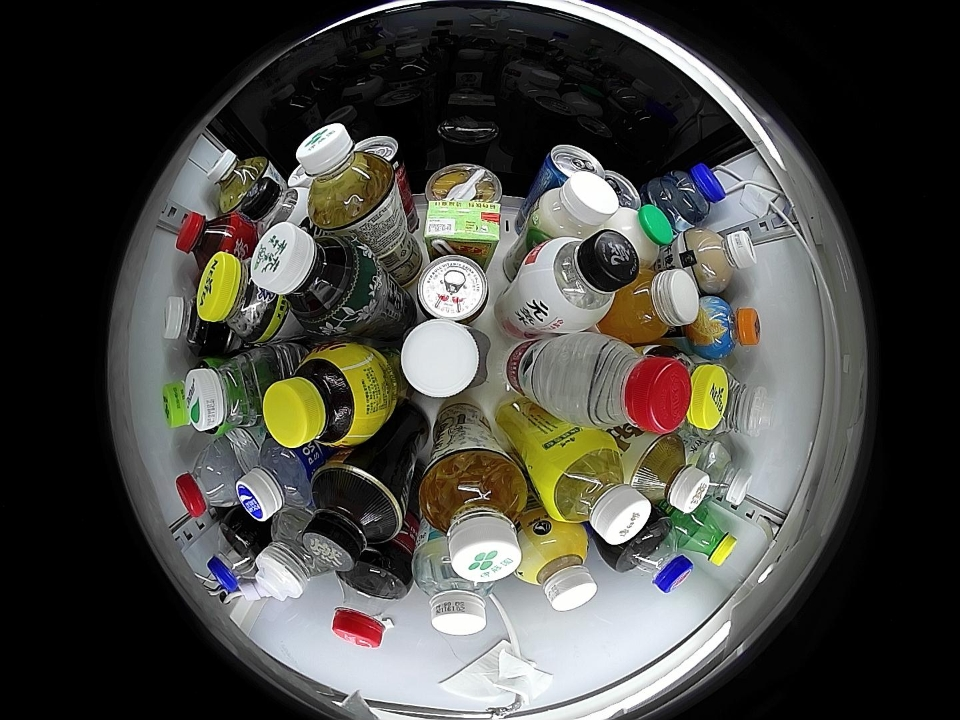asamu: (516, 527, 597, 612)
baicha: (418, 451, 528, 583), (295, 122, 398, 228), (207, 149, 268, 211)
baishikele-2: (614, 519, 693, 594), (207, 518, 266, 594)
baokuangli: (235, 440, 319, 521)
binghongcha: (175, 211, 246, 273)
bingtangxueli: (539, 436, 652, 545)
chacui: (198, 252, 285, 343), (668, 354, 730, 430)
guolicheng: (690, 297, 761, 360)
hongniu2: (416, 255, 490, 323)
jianjiao: (254, 515, 329, 602), (708, 364, 773, 438)
kele-b: (331, 557, 409, 650)
liziyuan: (606, 203, 675, 270)
maidong: (657, 162, 727, 226)
moliqingcha: (251, 222, 375, 335)
nongfushanquan: (569, 338, 691, 434), (176, 441, 245, 517)
qingdaowangzi-2: (540, 145, 607, 187)
qinningshui: (414, 544, 494, 636), (694, 439, 753, 508)
rancha-1: (301, 461, 406, 571)
rancha-2: (628, 434, 710, 515)
wanglaoji: (423, 196, 502, 252)
weic: (607, 269, 700, 344)
weitaningmeng-bottle: (263, 342, 384, 450)
wuhounaicha: (687, 228, 757, 292)
wulongcha: (163, 290, 221, 354)
xianguolao: (422, 160, 501, 199)
xuebi-b: (676, 507, 738, 568)
yezhi: (606, 171, 641, 212)
yibao: (187, 350, 276, 431)
yitengyuan: (163, 363, 204, 432)
yousuanru: (535, 170, 618, 240)
youyanggudong: (399, 319, 489, 398)
yuanqishui: (525, 230, 639, 331), (241, 176, 308, 233)
